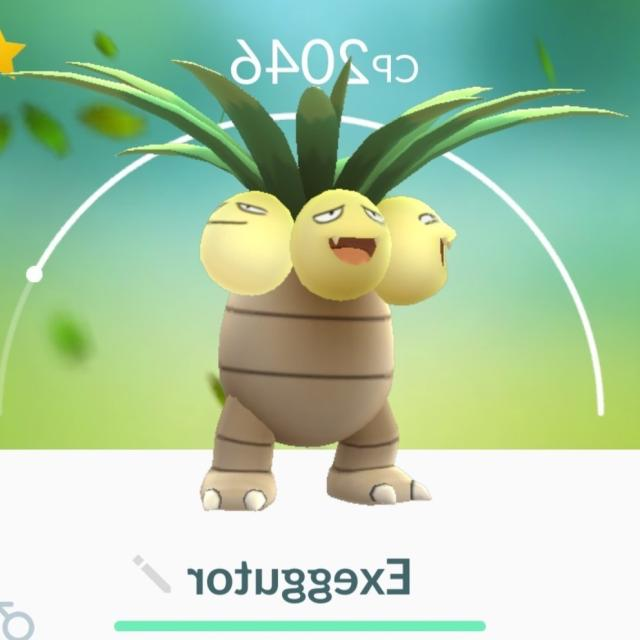Exeggutor: (209, 128, 446, 510)
